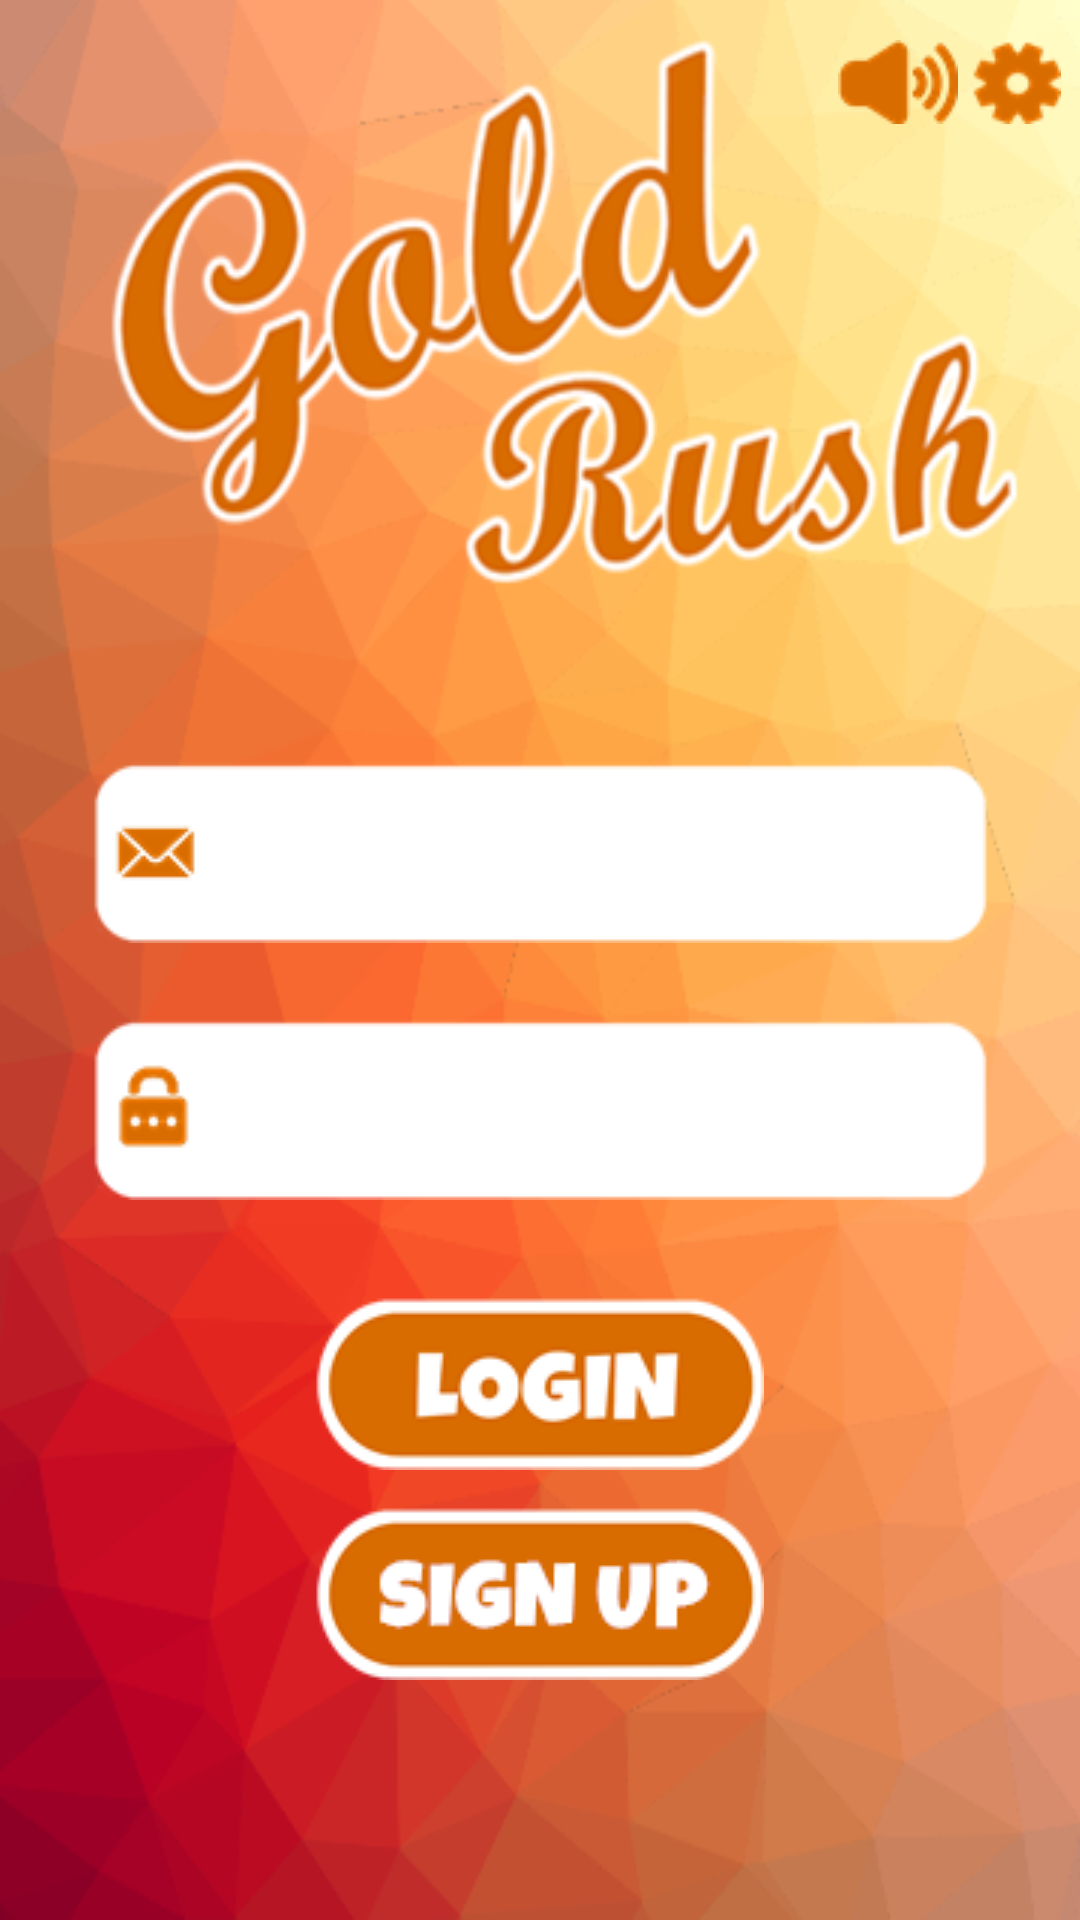

Where to tap for icons on this 1080 × 1920 app screen, as (x=x, y=y):
setting: (x=1017, y=83)
sound: (x=898, y=82)
